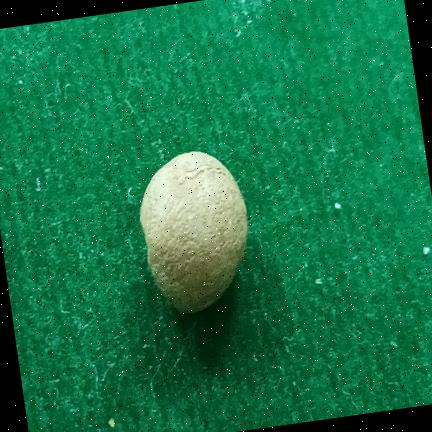cut: (139, 151, 247, 313)
